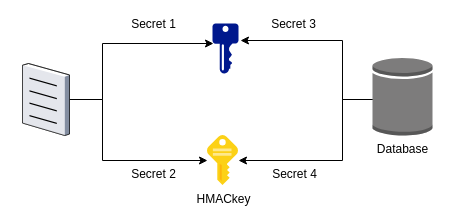
Image size: 450x224. Some labels were removed from this diagram. The centre of each missing label's shape, as x and y in pixels:
EncryptionKey: pixel 225 48
web.config: pixel 45 99
